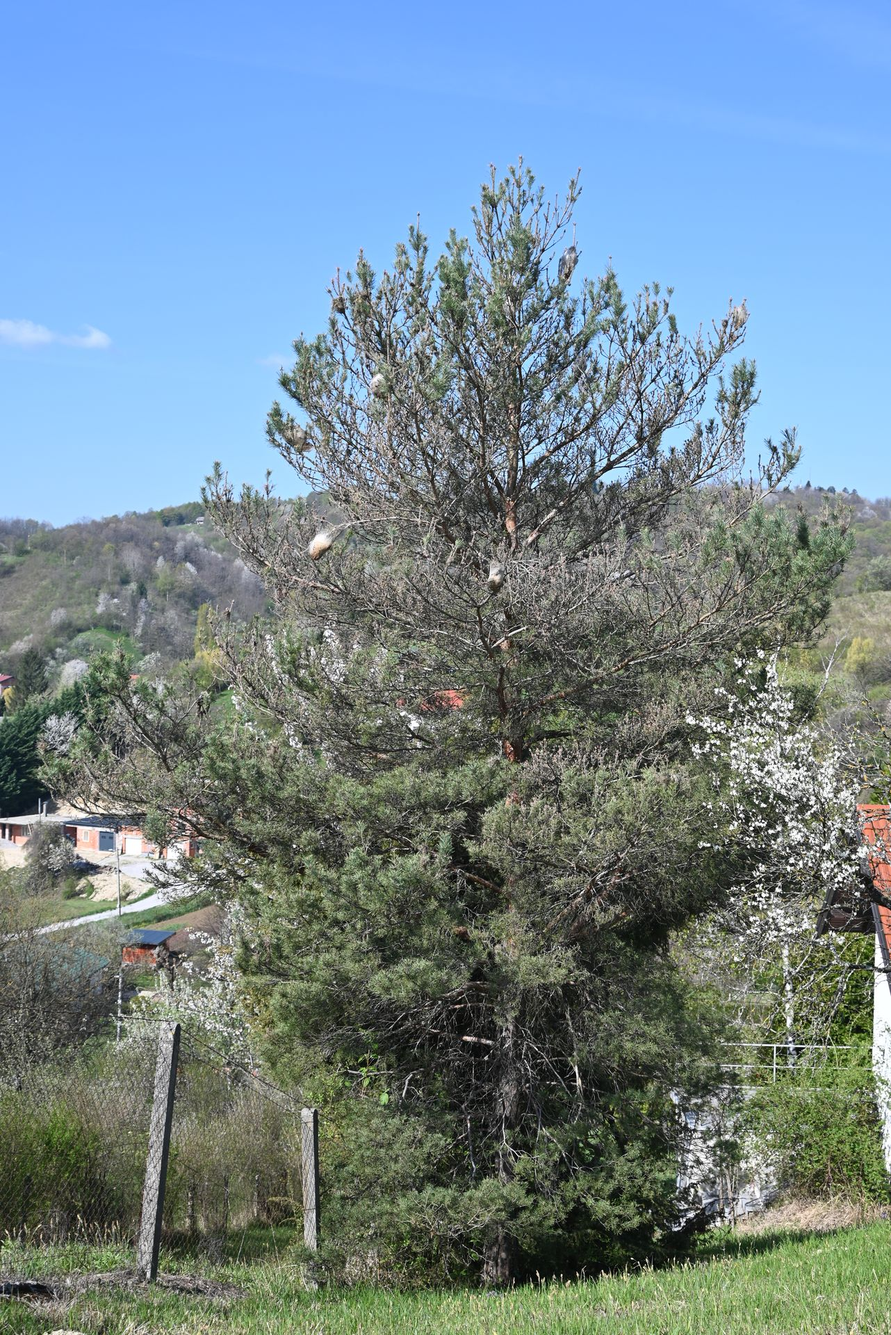thaumatopoea pityocampa jajno gnijezdo: (298, 527, 337, 560), (722, 299, 746, 326), (366, 368, 386, 395)
